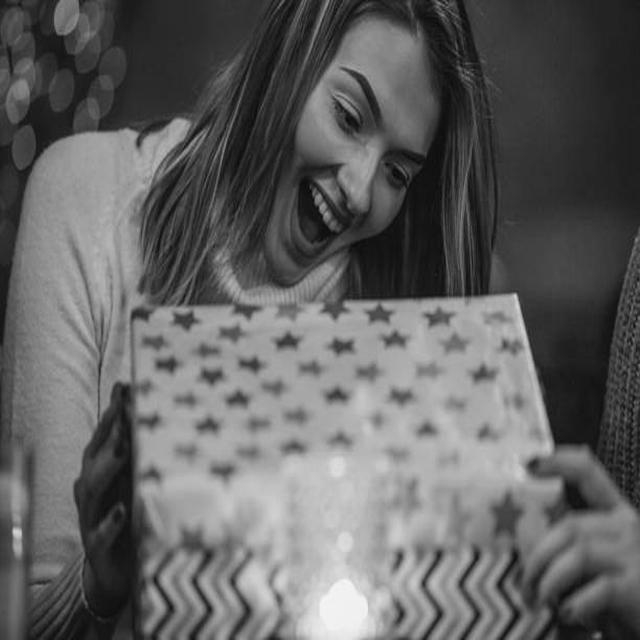Surprised: (264, 15, 442, 287)
